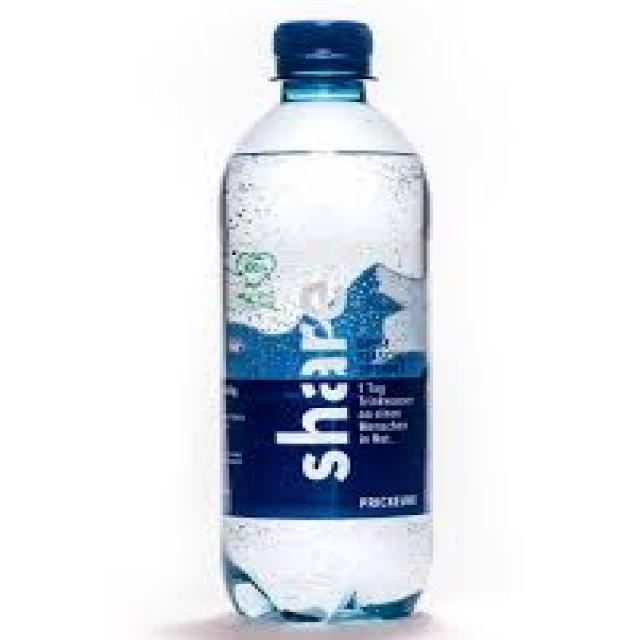Plastico: (202, 9, 443, 636)
